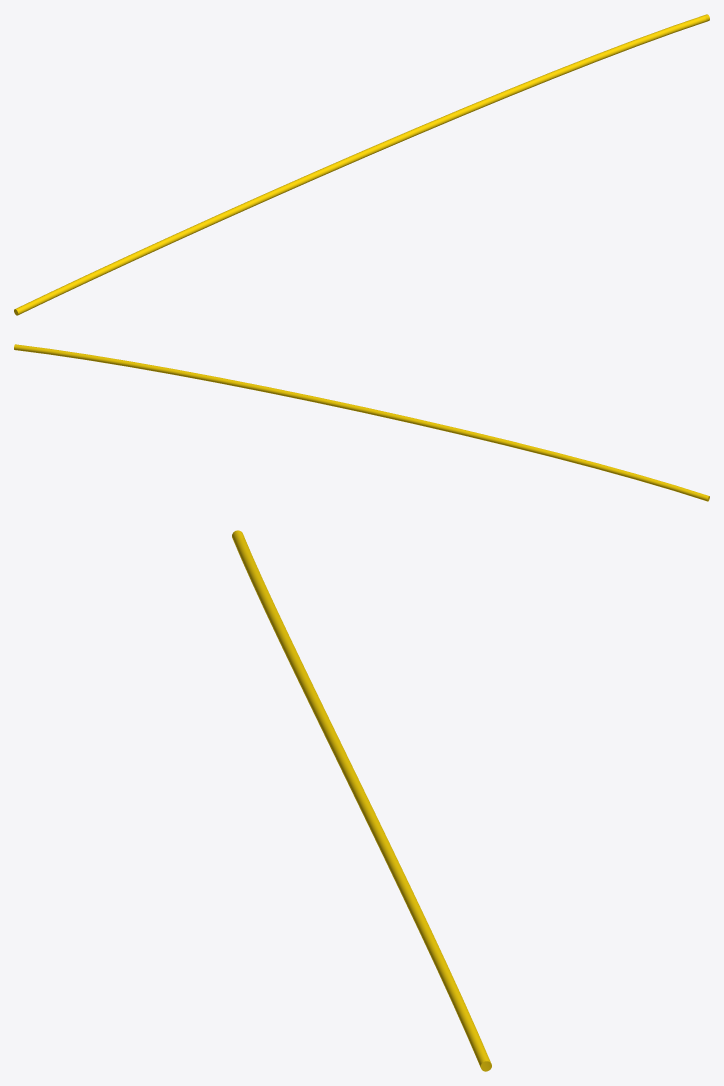
File: Event_420107950_track_67.fbx
3 views of the same model, one above another, from view 1: azimuth 30°, elevation 25°; view 2: azimuth 150°, elevation 25°; view 3: azimuth 270°, elevation 25° (orthographic). The views are drawn at different scales.
Visible parts, largest first — view 1: Model; view 2: Model; view 3: Model.
Boxes of the visible parts, <box> form: Model: <box>14,14,709,315</box>; Model: <box>14,344,709,501</box>; Model: <box>232,530,491,1071</box>.
Bounding box in the file's own units: 5.06 × 0.3735 × 0.9003.
